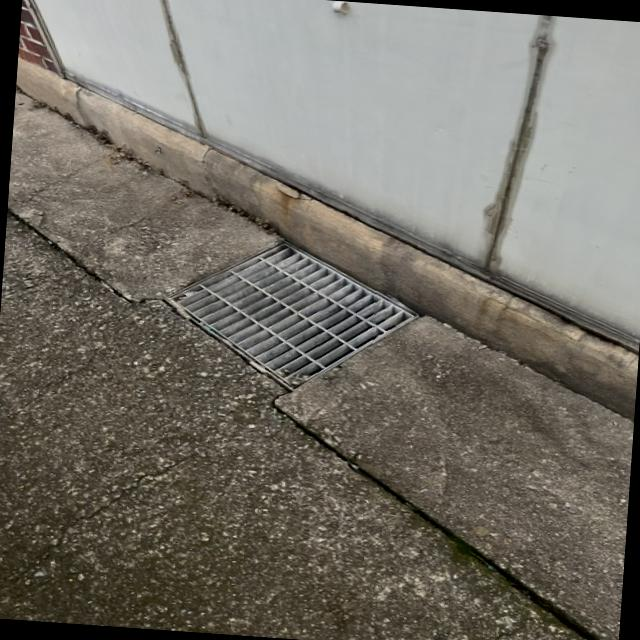drain_area: (176, 243, 417, 375)
drain_full: (167, 243, 417, 388)
